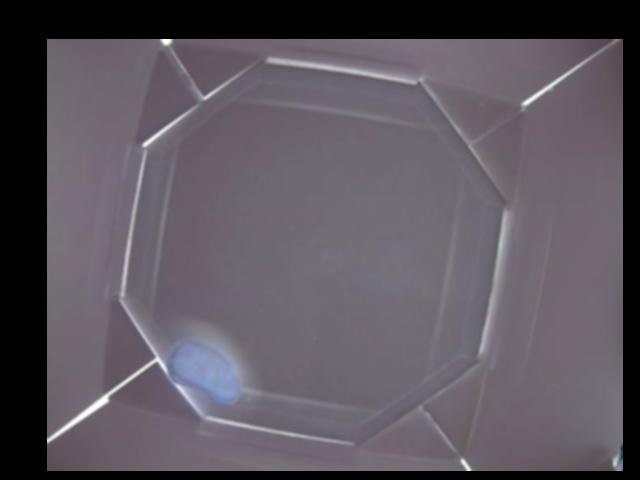Pebble: (165, 335, 243, 406)
